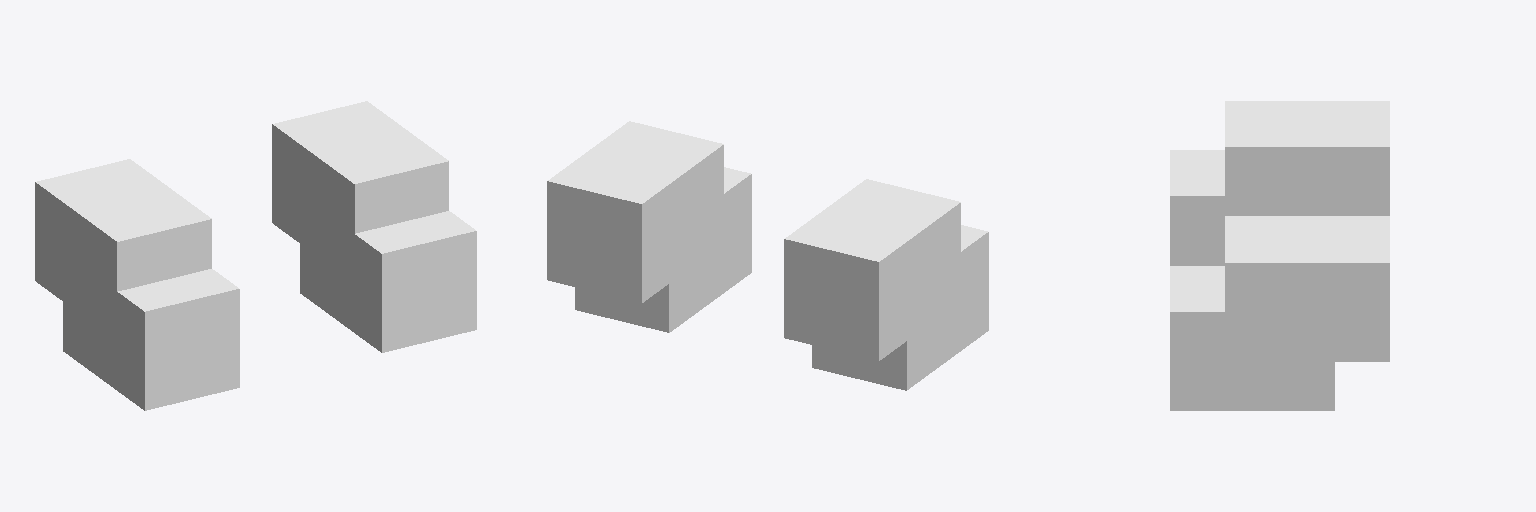
Rendered from PigRider-2-FrontLegs.obj.
3 views of the same model, side by side, from view 1: azimuth 30°, elevation 25°; view 2: azimuth 150°, elevation 25°; view 3: azimuth 270°, elevation 25° (orthographic).
Visible parts, largest first — view 1: FrontLegs; view 2: FrontLegs; view 3: FrontLegs.
Part boxes in pixels (x1,y1,x2,y2): FrontLegs: (35,101,476,410); FrontLegs: (547,121,988,390); FrontLegs: (1170,101,1389,410).
Bounding box in the file's own units: 0.7 × 0.3 × 0.4.